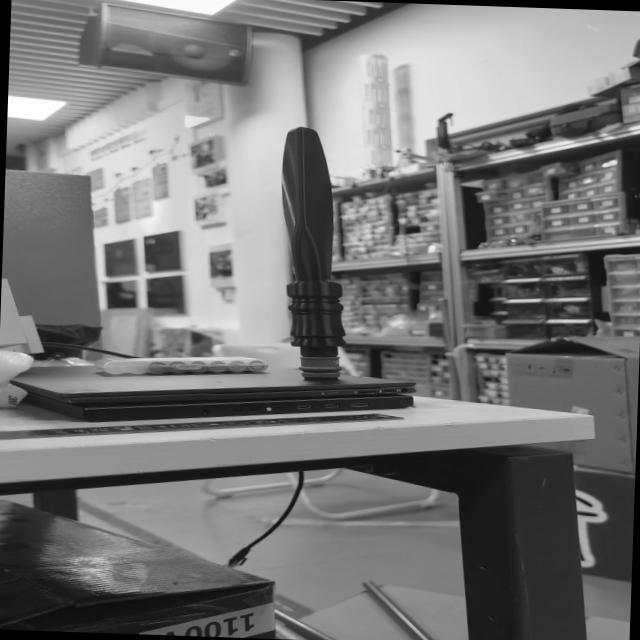base: (290, 352, 352, 386)
